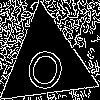O: (21, 37, 72, 95)
